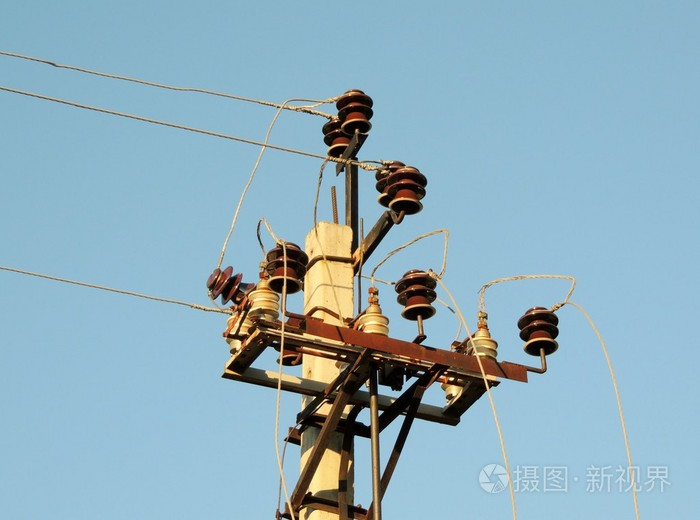insulator: (374, 165, 429, 214), (393, 271, 446, 320), (265, 243, 310, 292), (518, 307, 562, 354), (334, 91, 378, 130), (207, 266, 245, 307), (318, 121, 354, 154)
